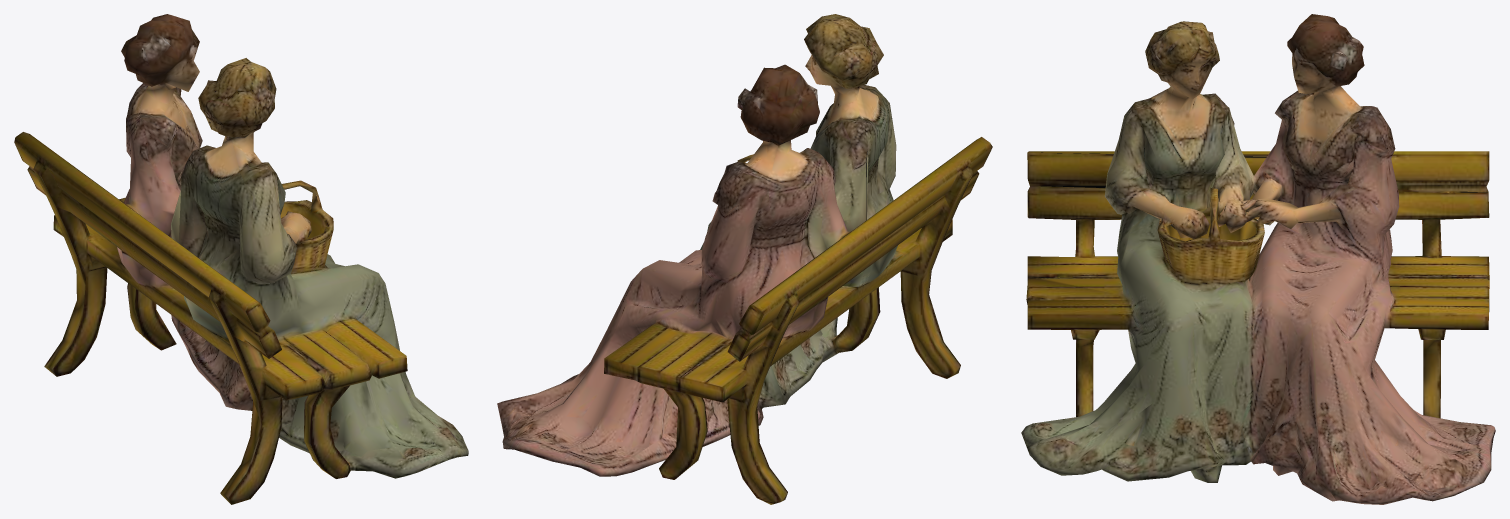
The model's file is demo_bench.glb.
3 renders of one model, left to right at view 1: azimuth 30°, elevation 25°; view 2: azimuth 150°, elevation 25°; view 3: azimuth 270°, elevation 25°, orthographic.
Visible parts, largest first — view 1: tripo_node_44daa3bb-9636-47f2-892f-214631d76802.001; view 2: tripo_node_44daa3bb-9636-47f2-892f-214631d76802.001; view 3: tripo_node_44daa3bb-9636-47f2-892f-214631d76802.001.
Boxes of the visible parts, x1,y1,x2,y2 form: tripo_node_44daa3bb-9636-47f2-892f-214631d76802.001: [14, 14, 468, 504]; tripo_node_44daa3bb-9636-47f2-892f-214631d76802.001: [497, 14, 992, 504]; tripo_node_44daa3bb-9636-47f2-892f-214631d76802.001: [1021, 14, 1495, 504].
Bounding box in the file's own units: 0.7466 × 0.8846 × 0.9954.
Materials: 1 (1 with a texture image).
